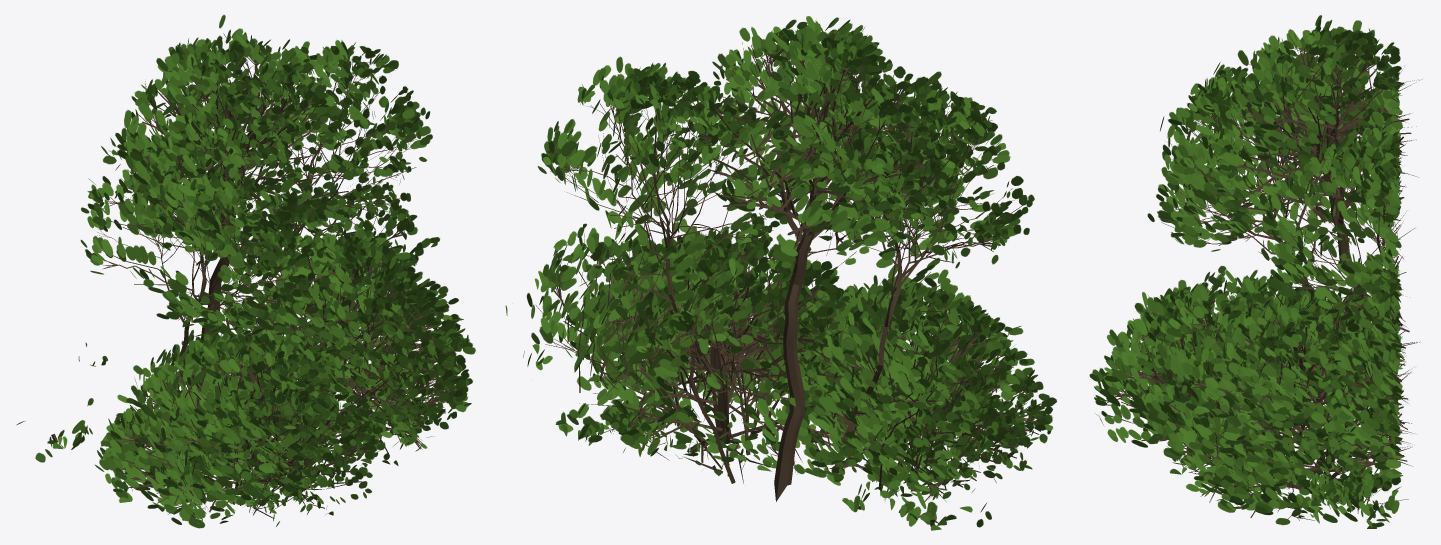
3 renders of one model, left to right at view 1: azimuth 30°, elevation 25°; view 2: azimuth 150°, elevation 25°; view 3: azimuth 270°, elevation 25°, orthographic. The views are drawn at different scales.
Visible parts, largest first — view 1: oak 01.001_trunk_Mat.001_0.204; view 2: oak 01.001_trunk_Mat.001_0.204; view 3: oak 01.001_trunk_Mat.001_0.204.
Boxes of the visible parts, x1=… form: oak 01.001_trunk_Mat.001_0.204: x1=16, y1=14, x2=475, y2=528; oak 01.001_trunk_Mat.001_0.204: x1=505, y1=16, x2=1056, y2=530; oak 01.001_trunk_Mat.001_0.204: x1=1089, y1=15, x2=1421, y2=528.
Bounding box in the file's own units: 3.68 × 3.52 × 2.52.
Materials: 2 (1 with a texture image).
